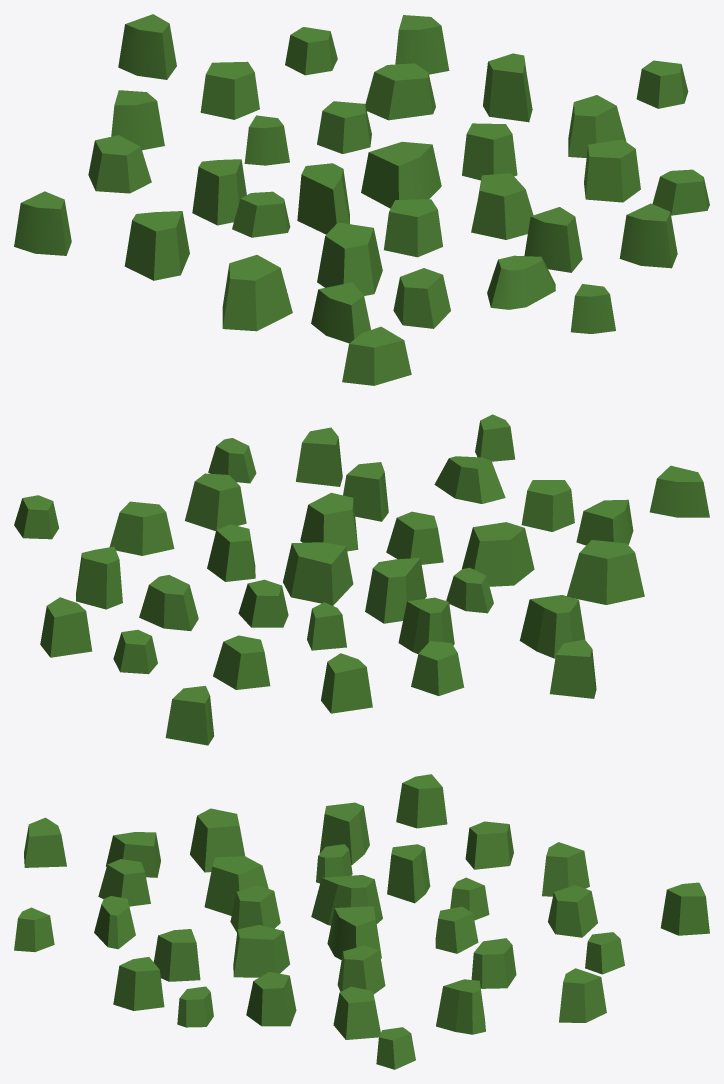
The model's file is grass_layer_crumbs_mini_set_D.fbx.
3 renders of one model, top to bottom at view 1: azimuth 30°, elevation 25°; view 2: azimuth 150°, elevation 25°; view 3: azimuth 270°, elevation 25°, orthographic. The views are drawn at different scales.
Visible parts, largest first — view 1: grass_layer_crumb_spec_D3, grass_layer_crumb_spec_A, grass_layer_crumb_spec_B3, grass_layer_crumb_spec_D1, grass_layer_crumb_spec_F5, grass_layer_crumb_spec_C8, grass_layer_crumb_spec_A9, grass_layer_crumb_spec_C10, grass_layer_crumb_spec_B2, grass_layer_crumb_spec_A10, grass_layer_crumb_spec_A3, grass_layer_crumb_spec_A5 (+20 smaller); view 2: grass_layer_crumb_spec_D3, grass_layer_crumb_spec_A, grass_layer_crumb_spec_D1, grass_layer_crumb_spec_B3, grass_layer_crumb_spec_B2, grass_layer_crumb_spec_C10, grass_layer_crumb_spec_D2, grass_layer_crumb_spec_C8, grass_layer_crumb_spec_E, grass_layer_crumb_spec_F5, grass_layer_crumb_spec_A9, grass_layer_crumb_spec_B5 (+20 smaller); view 3: grass_layer_crumb_spec_C8, grass_layer_crumb_spec_D3, grass_layer_crumb_spec_D1, grass_layer_crumb_spec_B2, grass_layer_crumb_spec_B5, grass_layer_crumb_spec_C10, grass_layer_crumb_spec_A3, grass_layer_crumb_spec_A5, grass_layer_crumb_spec_A10, grass_layer_crumb_spec_B3, grass_layer_crumb_spec_A4, grass_layer_crumb_spec_A (+20 smaller).
Part boxes in pixels (bbox=[...]): grass_layer_crumb_spec_D3: bbox=[222, 255, 292, 331]; grass_layer_crumb_spec_A: bbox=[361, 141, 441, 208]; grass_layer_crumb_spec_B3: bbox=[124, 211, 189, 280]; grass_layer_crumb_spec_D1: bbox=[317, 222, 382, 295]; grass_layer_crumb_spec_F5: bbox=[365, 63, 435, 120]; grass_layer_crumb_spec_C8: bbox=[471, 173, 533, 239]; grass_layer_crumb_spec_A9: bbox=[342, 326, 411, 385]; grass_layer_crumb_spec_C10: bbox=[584, 139, 640, 202]; grass_layer_crumb_spec_B2: bbox=[297, 163, 349, 234]; grass_layer_crumb_spec_A10: bbox=[118, 14, 176, 79]; grass_layer_crumb_spec_A3: bbox=[14, 191, 71, 255]; grass_layer_crumb_spec_A5: bbox=[619, 203, 677, 268]; grass_layer_crumb_spec_D3: bbox=[567, 540, 644, 604]; grass_layer_crumb_spec_A: bbox=[283, 542, 353, 605]; grass_layer_crumb_spec_D1: bbox=[462, 522, 534, 586]; grass_layer_crumb_spec_B3: bbox=[519, 595, 585, 658]; grass_layer_crumb_spec_B2: bbox=[365, 558, 426, 623]; grass_layer_crumb_spec_C10: bbox=[185, 473, 246, 531]; grass_layer_crumb_spec_D2: bbox=[109, 501, 174, 555]; grass_layer_crumb_spec_C8: bbox=[300, 492, 358, 551]; grass_layer_crumb_spec_E: bbox=[434, 456, 505, 503]; grass_layer_crumb_spec_F5: bbox=[139, 575, 198, 630]; grass_layer_crumb_spec_A9: bbox=[649, 465, 709, 517]; grass_layer_crumb_spec_B5: bbox=[76, 546, 122, 609]; grass_layer_crumb_spec_C8: bbox=[233, 925, 289, 977]; grass_layer_crumb_spec_D3: bbox=[190, 808, 244, 872]; grass_layer_crumb_spec_D1: bbox=[204, 856, 268, 915]; grass_layer_crumb_spec_B2: bbox=[311, 875, 382, 925]; grass_layer_crumb_spec_B5: bbox=[436, 979, 485, 1034]; grass_layer_crumb_spec_C10: bbox=[246, 972, 296, 1026]; grass_layer_crumb_spec_A3: bbox=[396, 774, 447, 828]; grass_layer_crumb_spec_A5: bbox=[113, 957, 164, 1010]; grass_layer_crumb_spec_A10: bbox=[660, 882, 709, 935]; grass_layer_crumb_spec_B3: bbox=[319, 802, 369, 864]; grass_layer_crumb_spec_A4: bbox=[559, 968, 606, 1022]; grass_layer_crumb_spec_A: bbox=[327, 906, 381, 959].
Size of the model in its own units: 237 by 17.84 by 256.
